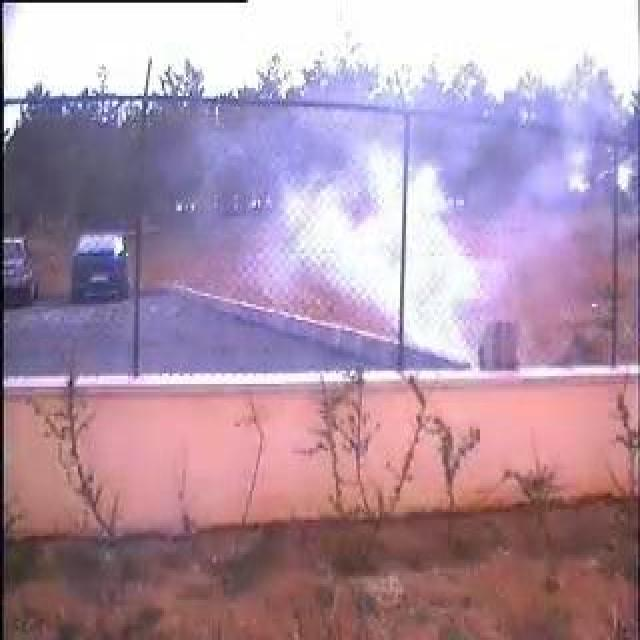Smoke: (276, 112, 596, 365)
